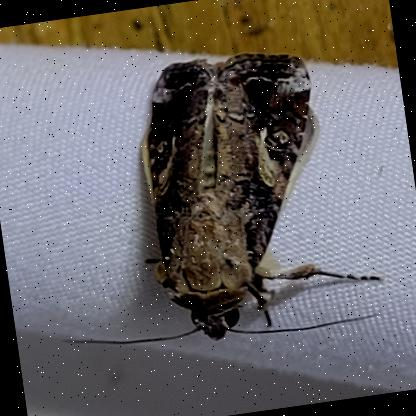Fall Armyworm Moth: (20, 33, 394, 367)
